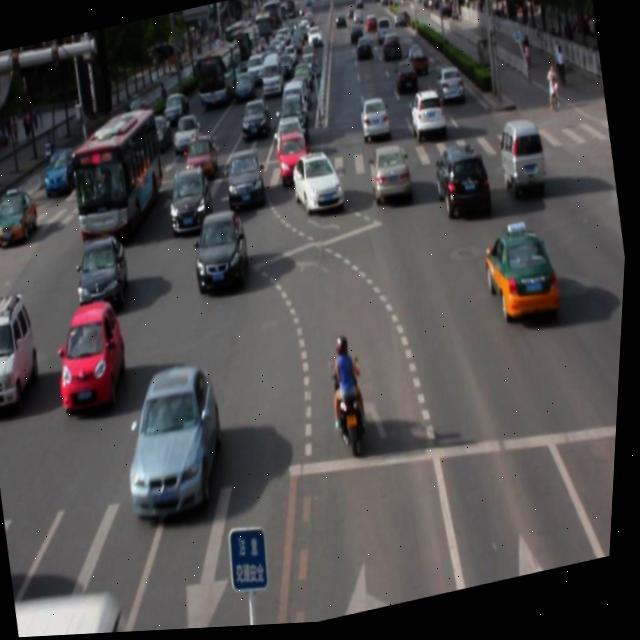car: (113, 357, 239, 524), (50, 295, 138, 415), (480, 224, 565, 330), (189, 205, 252, 293), (430, 142, 495, 227), (74, 234, 135, 313), (286, 149, 349, 222), (166, 165, 215, 235), (366, 145, 416, 208), (223, 149, 271, 214)
truck: (494, 119, 551, 202)
van: (65, 107, 175, 249), (19, 578, 141, 638)
